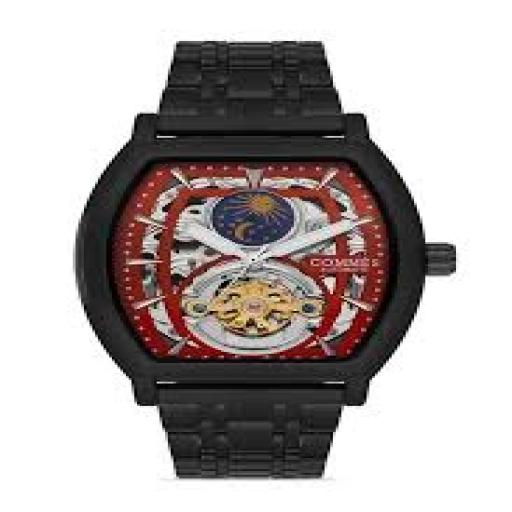KolSaati: (57, 16, 501, 505)
